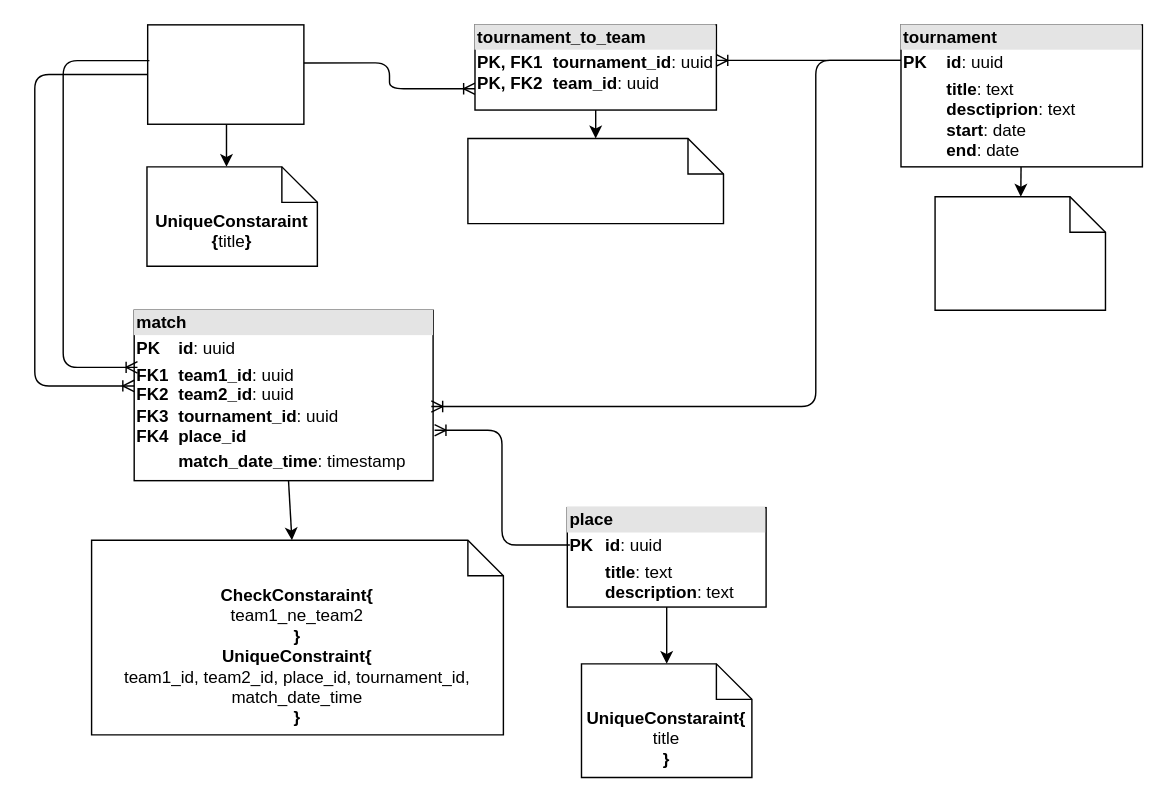
The diagram is 1167 pixels wide and 802 high, and some of its shapes have lost their labels. The centre of each missing label's shape, as x and y in pixels:
CheckConstaraint { start_lte_end }: the point at 1019,252
PK ( tournament_id, team_id): the point at 594,180
team PK id : uuid title : text founding : date: the point at 225,73
